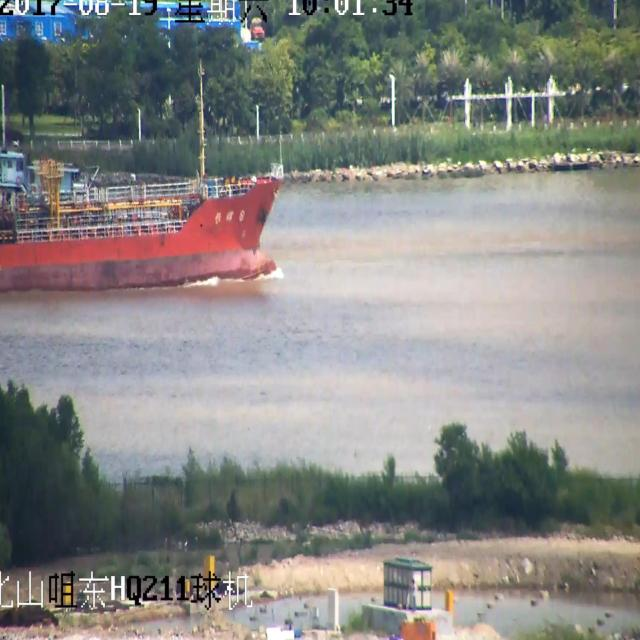cargoship: (0, 101, 291, 324)
